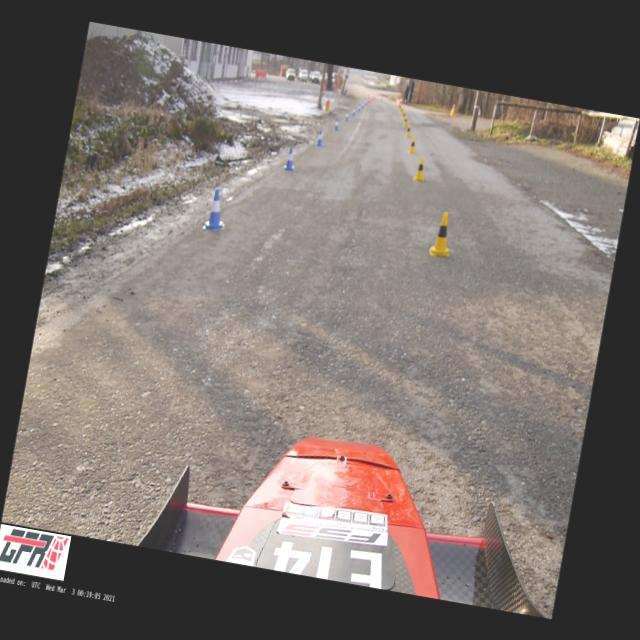blue_cone: (202, 188, 230, 232), (282, 146, 297, 172), (315, 128, 324, 146), (333, 117, 340, 131), (344, 110, 349, 121), (351, 106, 356, 115), (356, 103, 361, 111), (360, 100, 364, 106), (363, 98, 367, 104)
yellow_cone: (428, 210, 457, 258), (412, 155, 428, 183), (407, 136, 418, 154), (404, 122, 412, 137), (402, 113, 408, 126), (450, 103, 456, 111), (401, 110, 406, 119), (400, 108, 402, 114)
